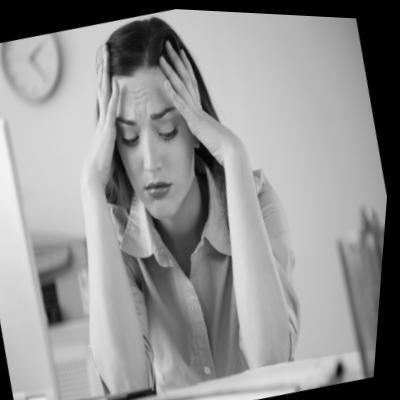sad: (101, 65, 212, 222)
